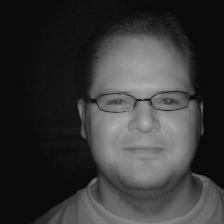happy: (69, 14, 218, 201)
